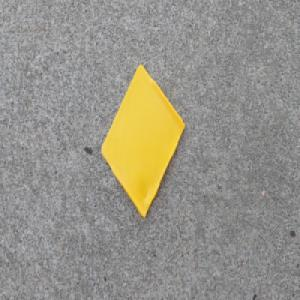PlasticPart: (99, 62, 186, 218)
